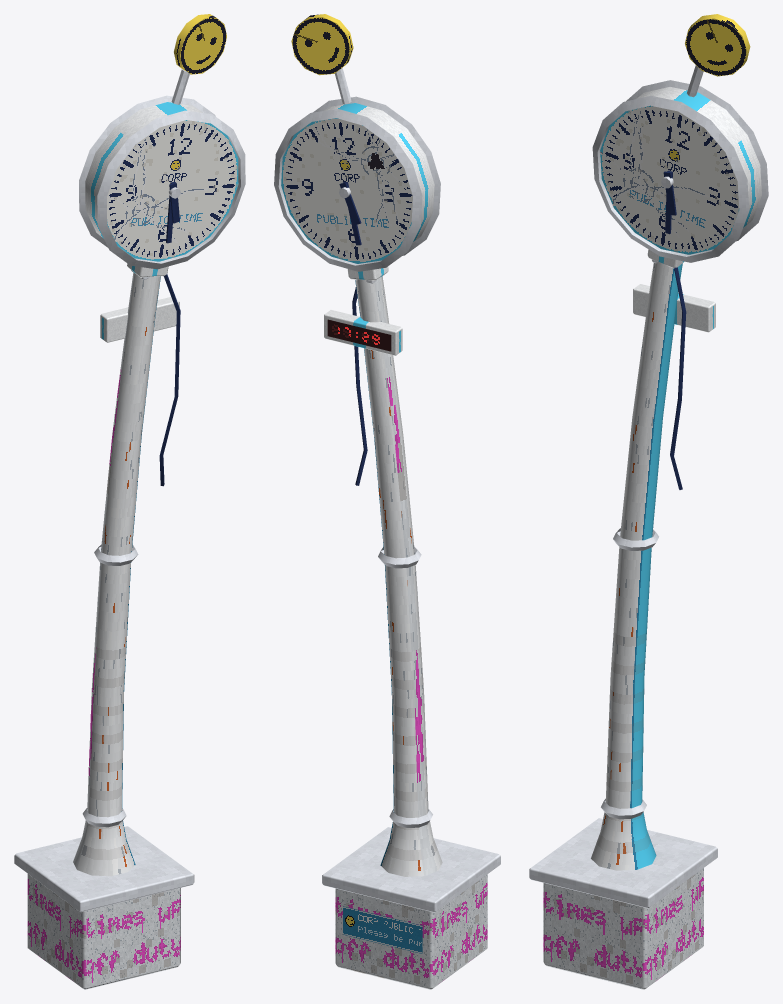
File: s_brokenclock.glb
3 renders of one model, left to right at view 1: azimuth 30°, elevation 25°; view 2: azimuth 150°, elevation 25°; view 3: azimuth 330°, elevation 25°, orthographic. The views are drawn at different scales.
Visible parts, largest first — view 1: s_brokenclock_mesh; view 2: s_brokenclock_mesh; view 3: s_brokenclock_mesh.
Boxes of the visible parts, left/top/right/bottom form: s_brokenclock_mesh: left=14, top=14, right=245, bottom=989; s_brokenclock_mesh: left=274, top=14, right=500, bottom=989; s_brokenclock_mesh: left=529, top=14, right=768, bottom=989.
Size of what is drawn, in the model's own units: 1.17 by 5.5 by 0.72.
4 materials, 4 textured.
